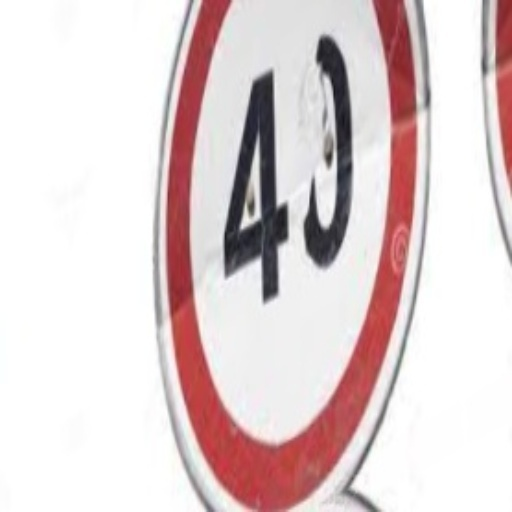Speed limit: (180, 0, 453, 483)
